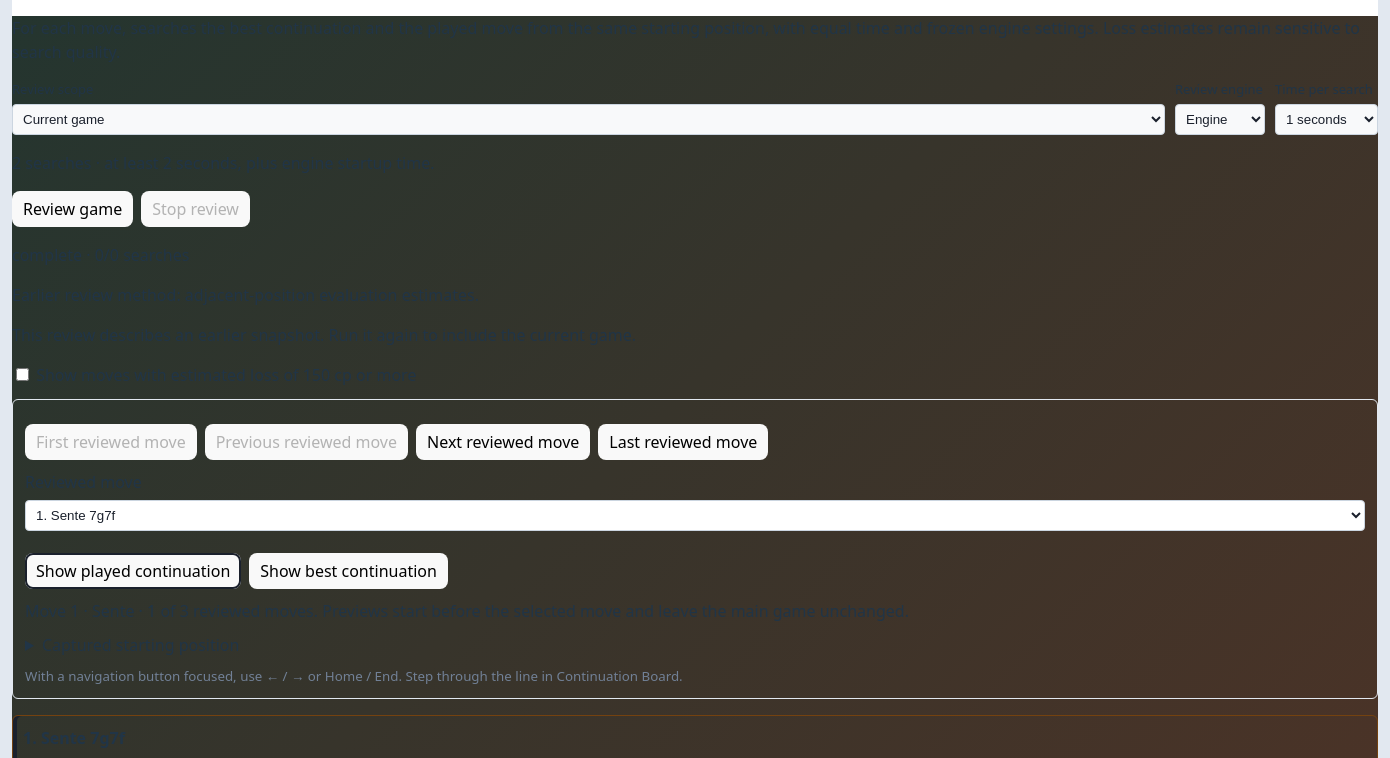
it: navigates only flagged moves and falls back to the played line when no best line exists
Click the checkbox.
click(22, 374)  # box [16,368,29,380]
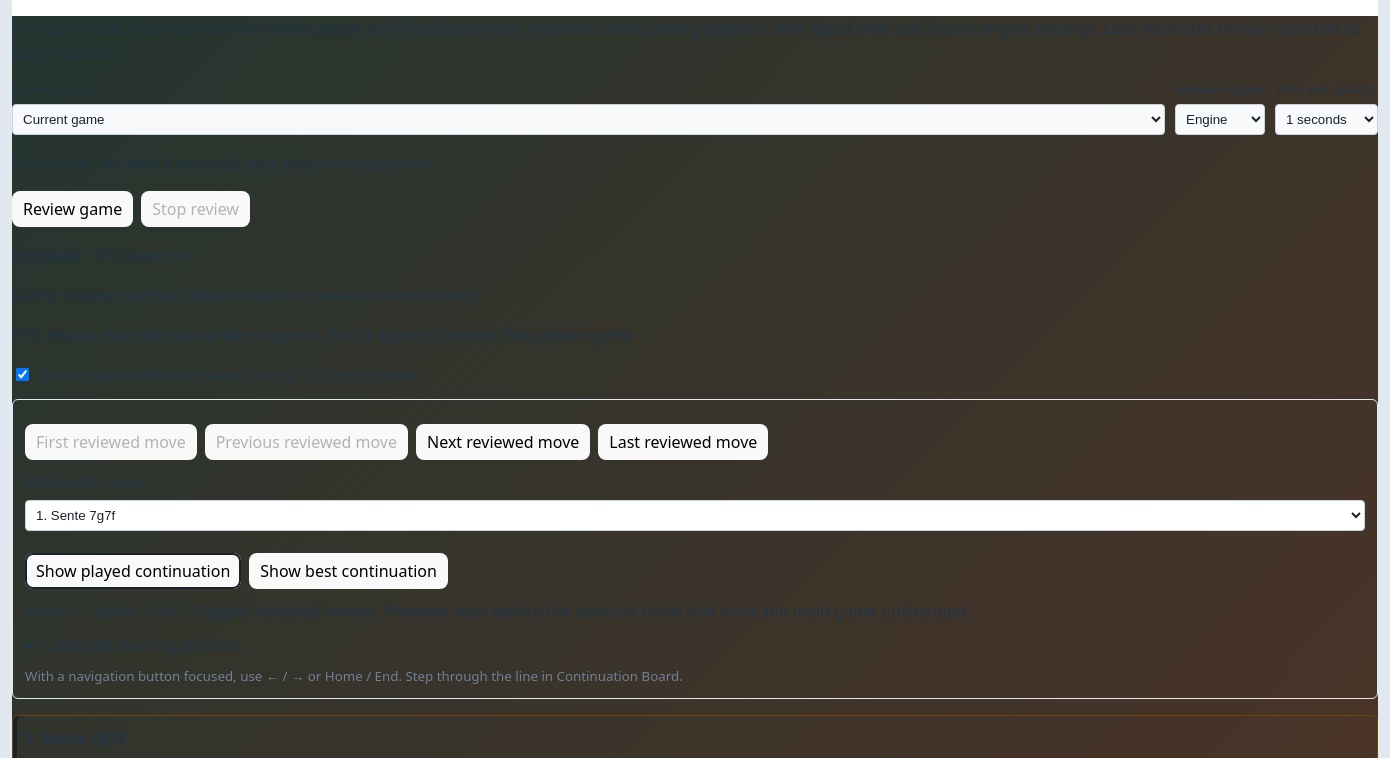
Click the button "Show best continuation".
click(349, 570)  # box [249,552,448,588]
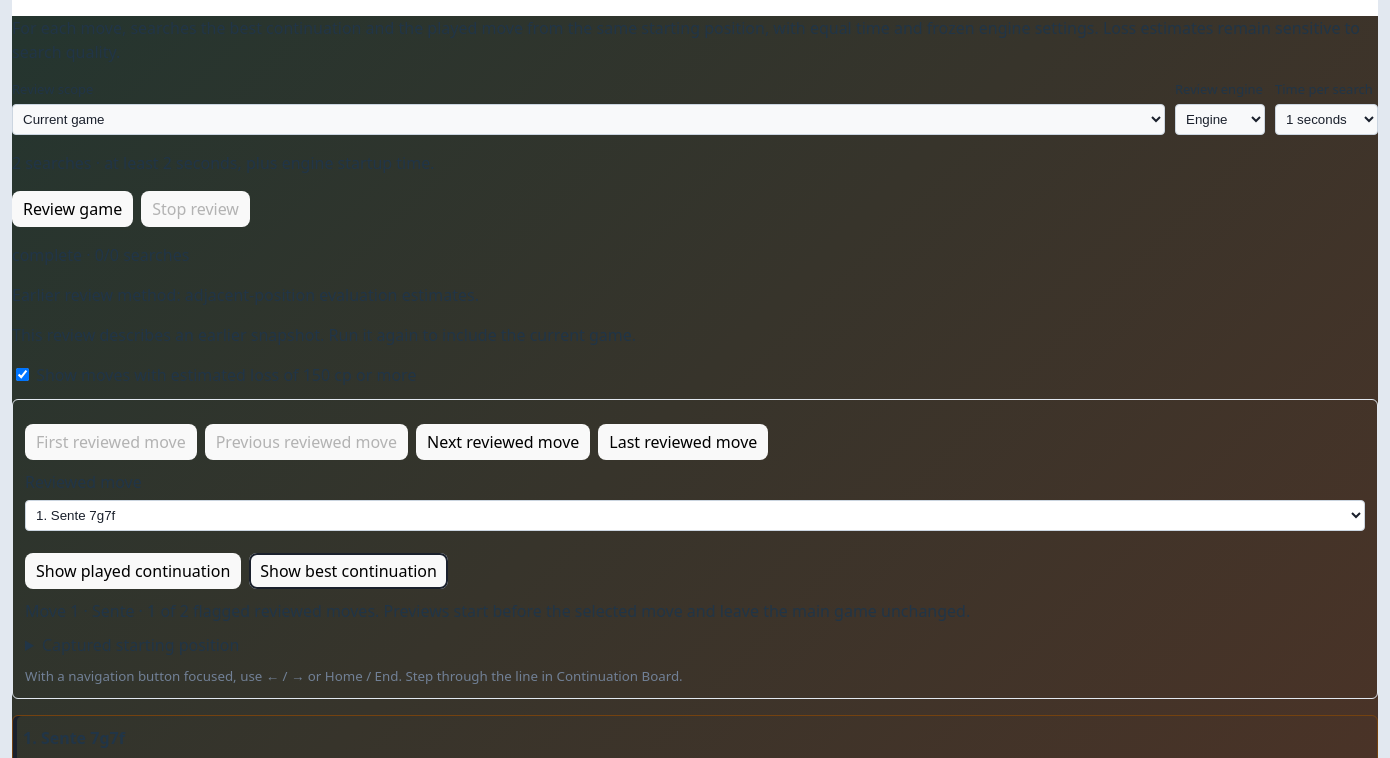
Click the button "Next reviewed move".
click(503, 442)  # box [416,424,590,460]
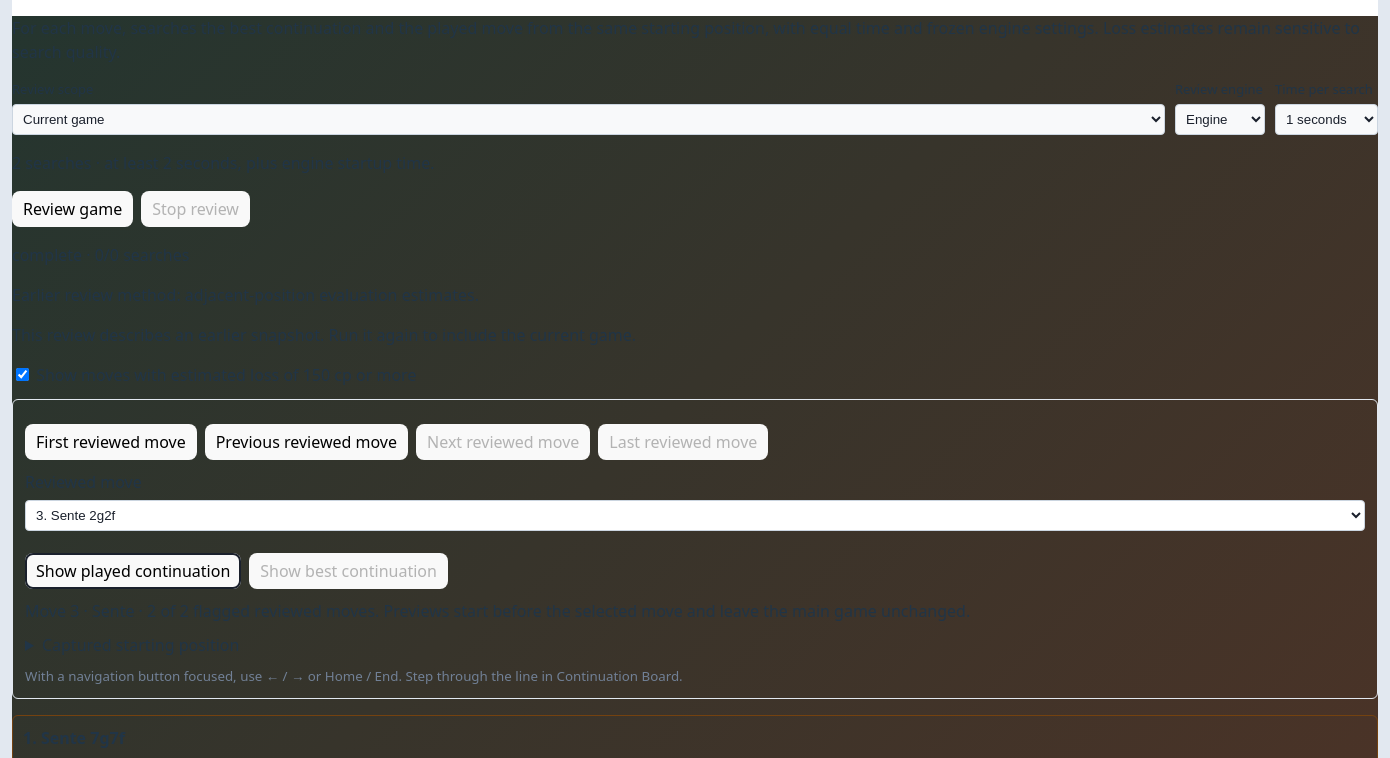
Check: the button "Show best continuation" is disabled, box [249,552,448,588]
Check: the text "2 of 2 flagged reviewed moves" is shown, box [25,600,970,622]
